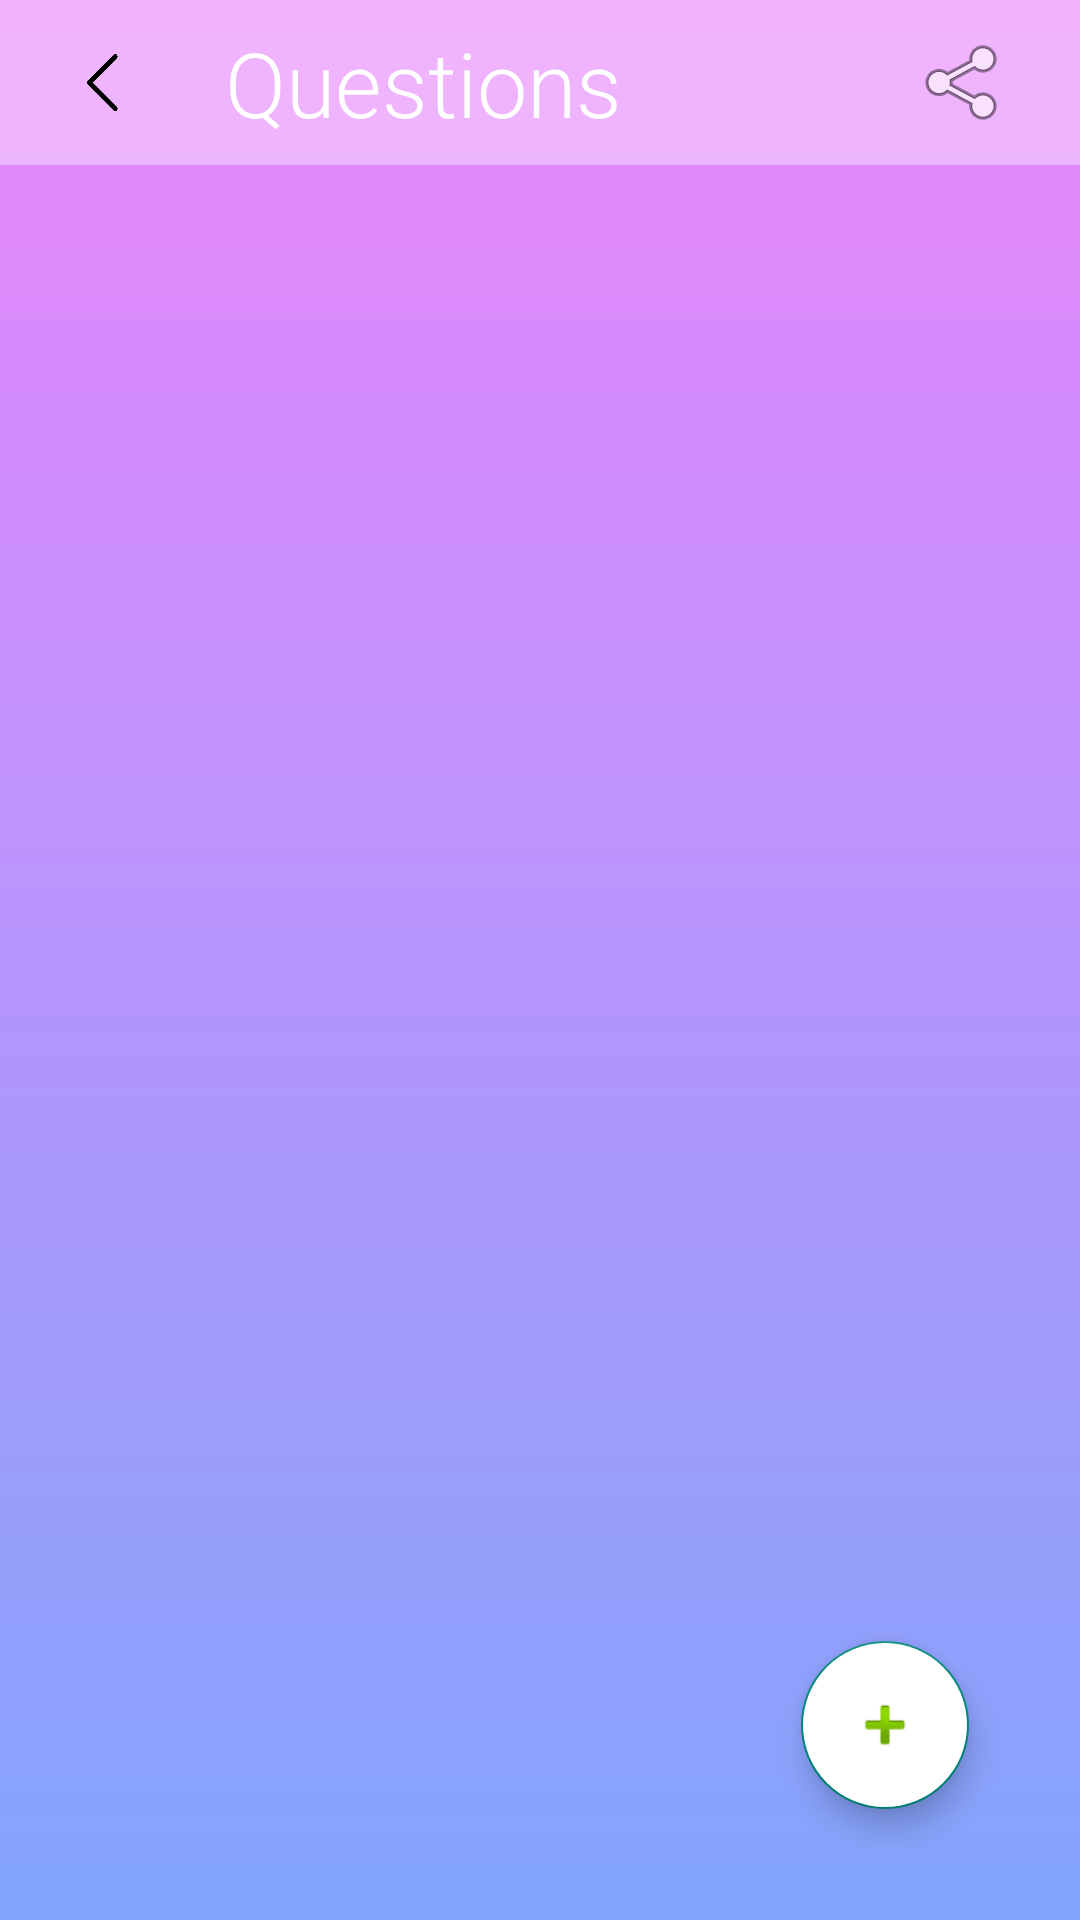

Where to tap for icons on this 1080 × 1920 app screen, as point (x, y):
add: point (885, 1725)
arrow: point (102, 82)
share: point (961, 82)
